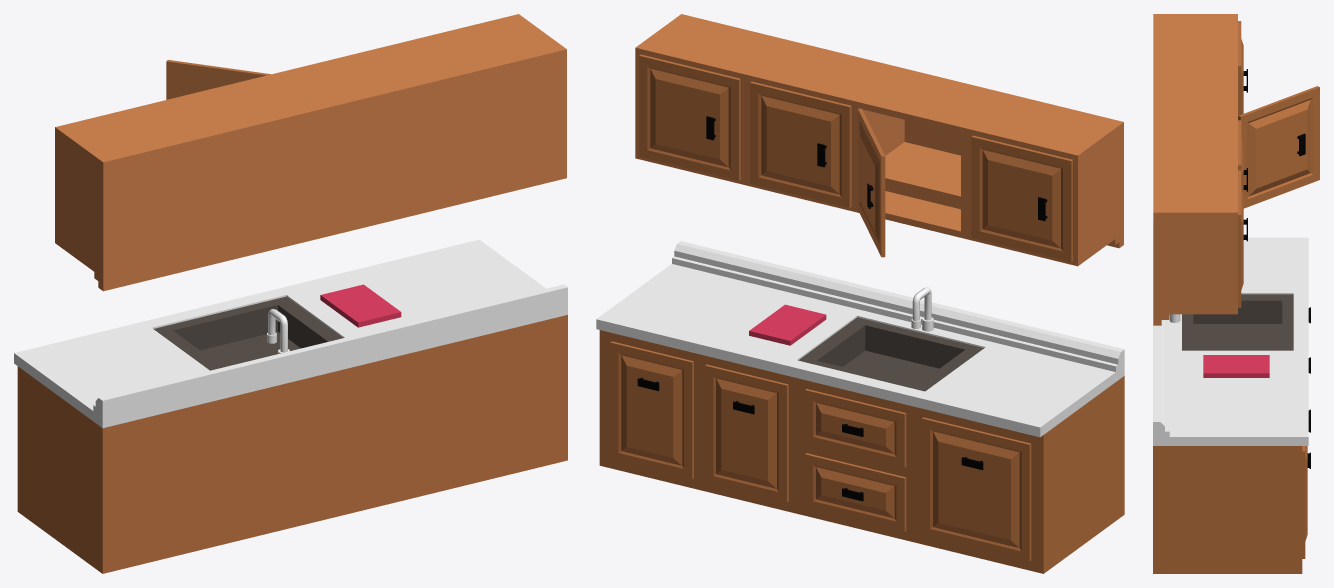
Rendered from kitchen.glb.
The picture shows the model from 3 angles, left to right: view 1: azimuth 30°, elevation 25°; view 2: azimuth 150°, elevation 25°; view 3: azimuth 270°, elevation 25°; orthographic projection. The views are drawn at different scales.
Visible parts, largest first — view 1: 21, 26, 25, 24, 22.003, 27; view 2: 26, 21, 25, 22.001, 22.002, 22.004, 24, 22.003, 27, 23.001, 28; view 3: 21, 26, 25, 22.003, 24, 27, 22.001, 22.004, 22.002.
Part boxes in pixels (x1,y1,x2,y2): 21: (55,14,566,291); 26: (17,315,567,573); 25: (14,239,567,428); 24: (153,296,342,370); 22.003: (166,60,270,99); 27: (320,284,401,327); 26: (599,330,1124,573); 21: (635,14,1123,266); 25: (596,241,1124,437); 22.001: (639,54,740,180); 22.002: (750,81,851,207); 22.004: (971,135,1072,261); 24: (798,317,983,391); 22.003: (858,108,885,257); 27: (749,304,826,345); 23.001: (637,377,983,501); 28: (911,287,933,331); 21: (1153,14,1237,325); 26: (1153,446,1307,573); 25: (1153,223,1308,445); 22.003: (1238,86,1319,208); 24: (1182,294,1293,350); 27: (1203,355,1269,377); 22.001: (1238,170,1243,307); 22.004: (1238,21,1243,119); 22.002: (1238,120,1243,193).
Bounding box in the file's own units: 9.24 × 7.81 × 3.27.
